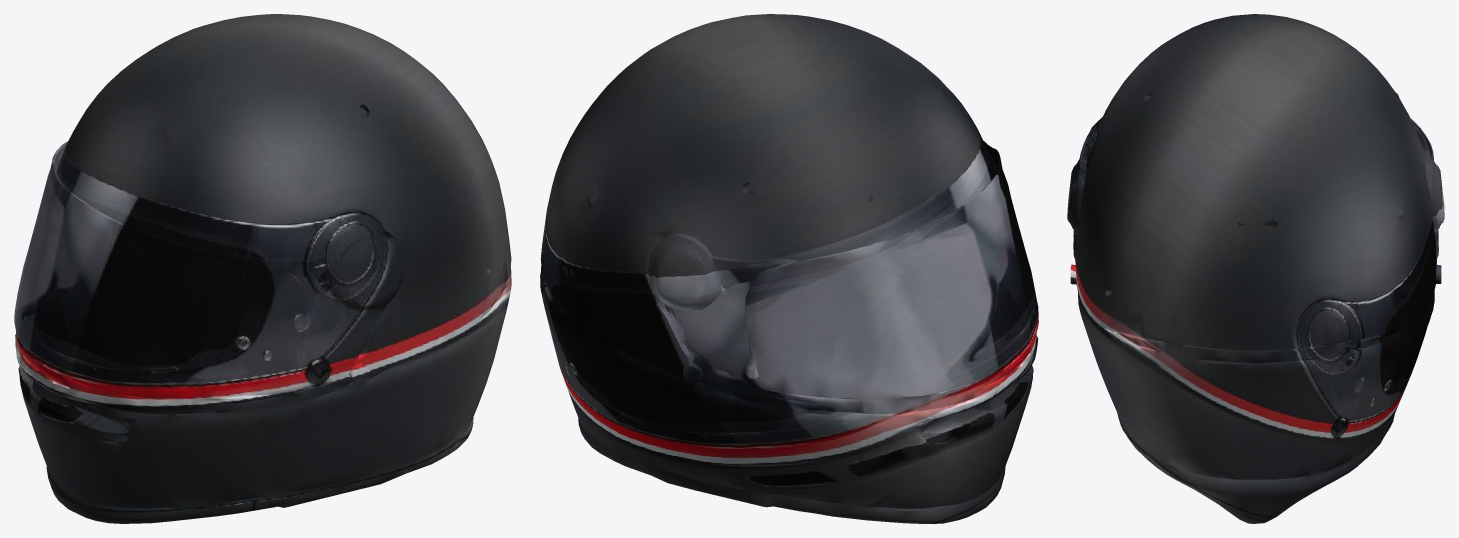
The model's file is capacete.glb.
3 renders of one model, left to right at view 1: azimuth 30°, elevation 25°; view 2: azimuth 150°, elevation 25°; view 3: azimuth 270°, elevation 25°, orthographic. The views are drawn at different scales.
Visible parts, largest first — view 1: capacete; view 2: capacete; view 3: capacete.
Part boxes in pixels (<box>): capacete: <box>14,14,511,523</box>; capacete: <box>540,14,1038,523</box>; capacete: <box>1067,14,1444,523</box>.
Bounding box in the file's own units: 0.36 × 0.3553 × 0.2931.
Materials: 1 (1 with a texture image).
